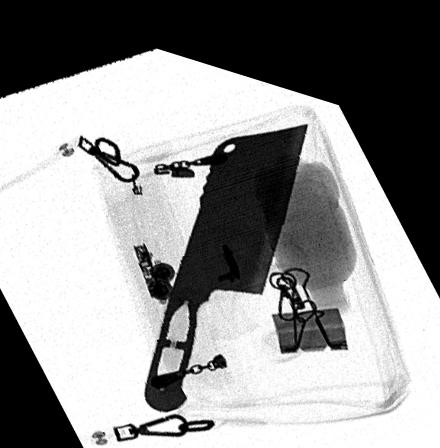Knife: (144, 104, 309, 403)
